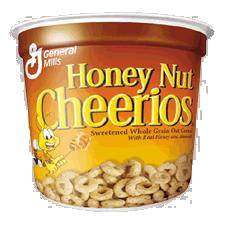grozi_95: (11, 13, 214, 212)
